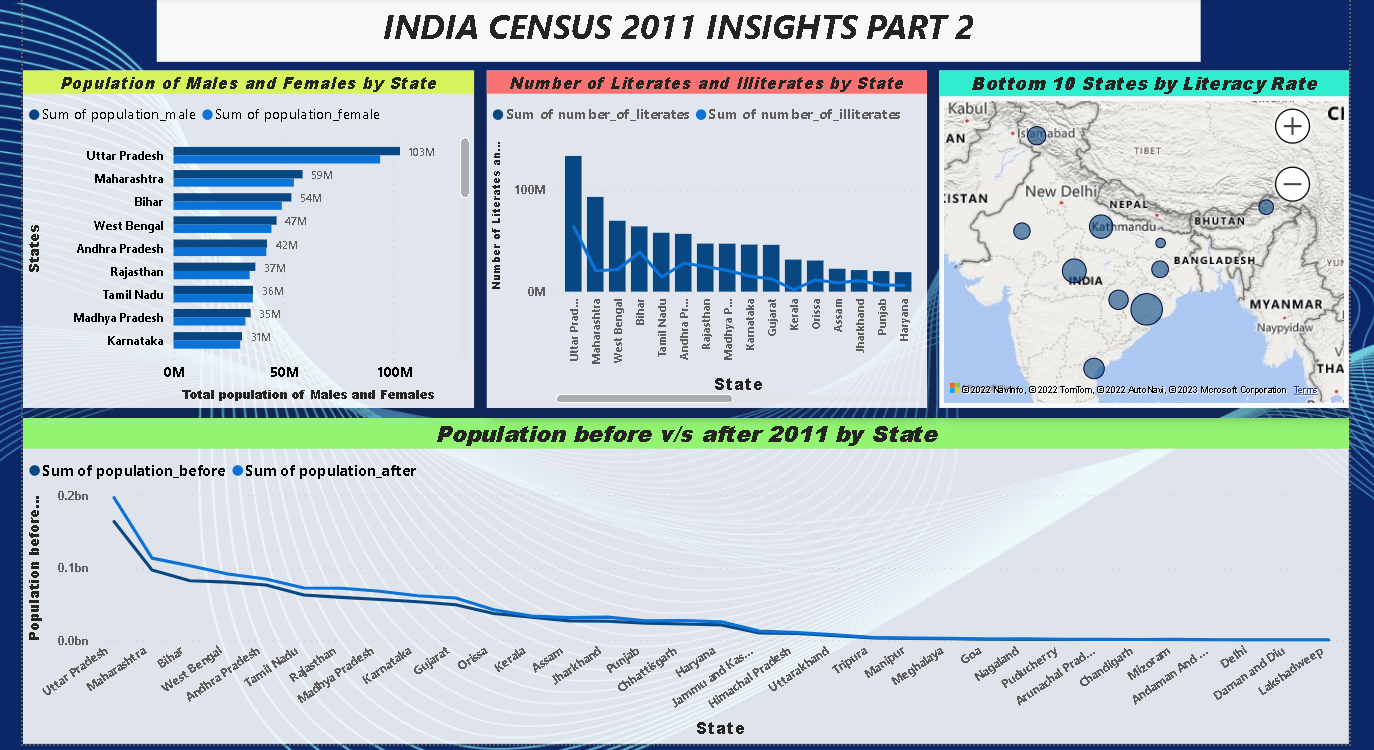

Layout of this report page (visuals, bound fields, positions):
{"tool":"powerbi","page":{"name":"Page 2","canvas":[1280,720],"ordinal":1},"visuals":[{"type":"clusteredBarChart","title":"Population of Males and Females by State","fields":{"Category":["STATES AND MALE FEMALE POPULATION.state"],"Y":["Sum(STATES AND MALE FEMALE POPULATION.population_male)","Sum(STATES AND MALE FEMALE POPULATION.population_female)"]},"box":[0,69.9,435.4,325.6],"z":0},{"type":"lineChart","title":"Population before v/s after 2011 by State","fields":{"Category":["POPULATION BEFORE.State"],"Y":["Sum(POPULATION BEFORE.population_before)","Sum(POPULATION BEFORE.population_after)"]},"box":[0,405.2,1279.6,314.8],"z":1000},{"type":"textbox","box":[129,0,1007,61.5],"z":2000},{"type":"lineClusteredColumnComboChart","title":"Number of Literates and Illiterates  by State","fields":{"Category":["LITERATES AND ILLITERATES STATE DISTRICT WISE.state"],"Y":["Sum(LITERATES AND ILLITERATES STATE DISTRICT WISE.number_of_literates)"],"Y2":["Sum(LITERATES AND ILLITERATES STATE DISTRICT WISE.number_of_illiterates)"]},"box":[447.4,69.9,424.5,325.6],"z":3000},{"type":"map","title":"Bottom  10 States by Literacy Rate","fields":{"Category":["HIGHEST LITERACY RATE  STATE WISE.State"],"Size":["Sum(HIGHEST LITERACY RATE  STATE WISE.avg_literacy)"]},"box":[884,69.9,395.6,325.6],"z":4000}]}

Visuals, with their boxes in screenshot pixels (x1, y1, x2, y2):
"Population of Males and Females by State" clusteredBarChart: box=[29, 68, 477, 403]
"Population before v/s after 2011 by State" lineChart: box=[29, 413, 1346, 737]
textbox: box=[161, 0, 1198, 60]
"Number of Literates and Illiterates  by State" lineClusteredColumnComboChart: box=[489, 68, 926, 403]
"Bottom  10 States by Literacy Rate" map: box=[938, 68, 1346, 403]
